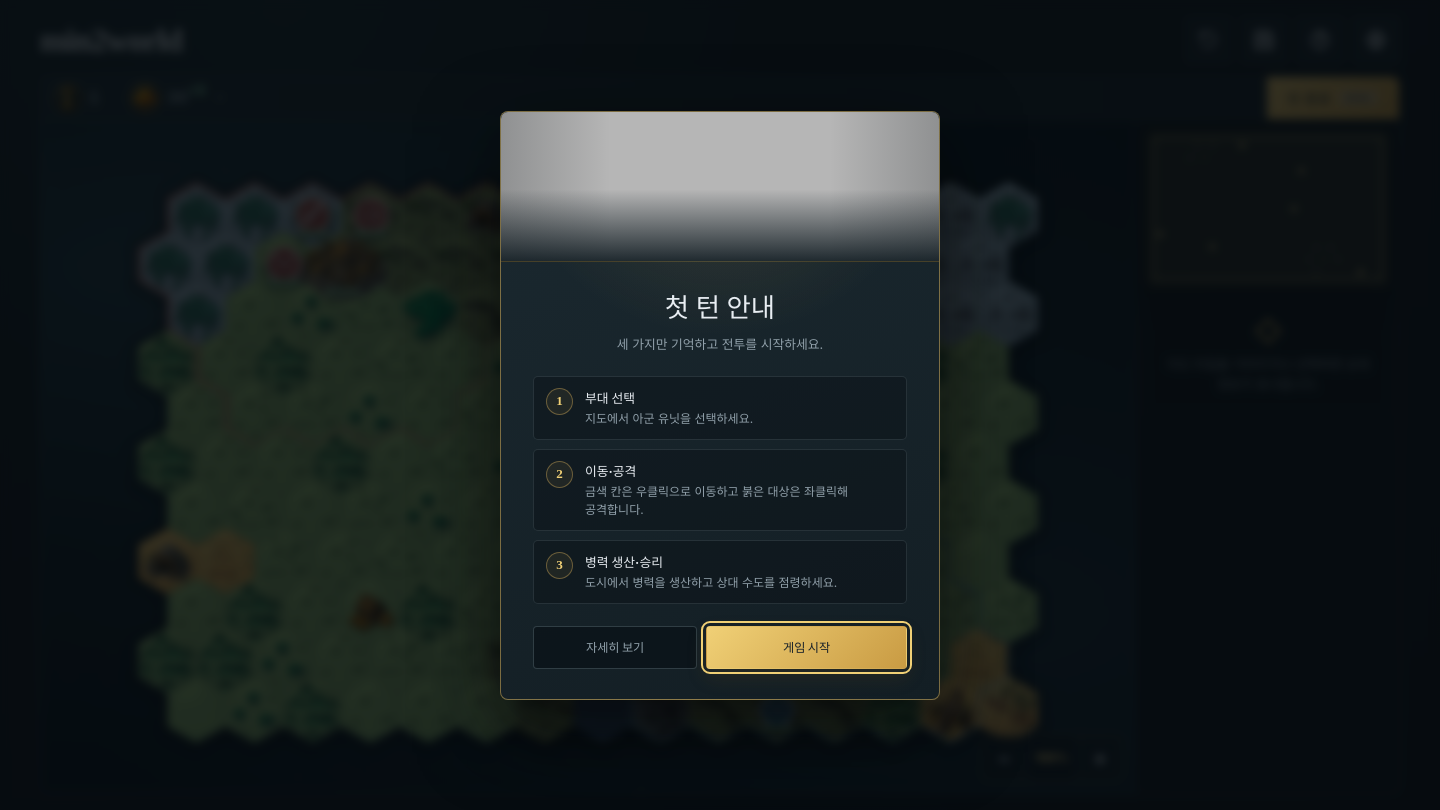
Test: Milestone 07 UI › opens detailed controls from the first-turn guide
Click the button "자세히 보기" at (615, 647), box [533, 626, 697, 668]
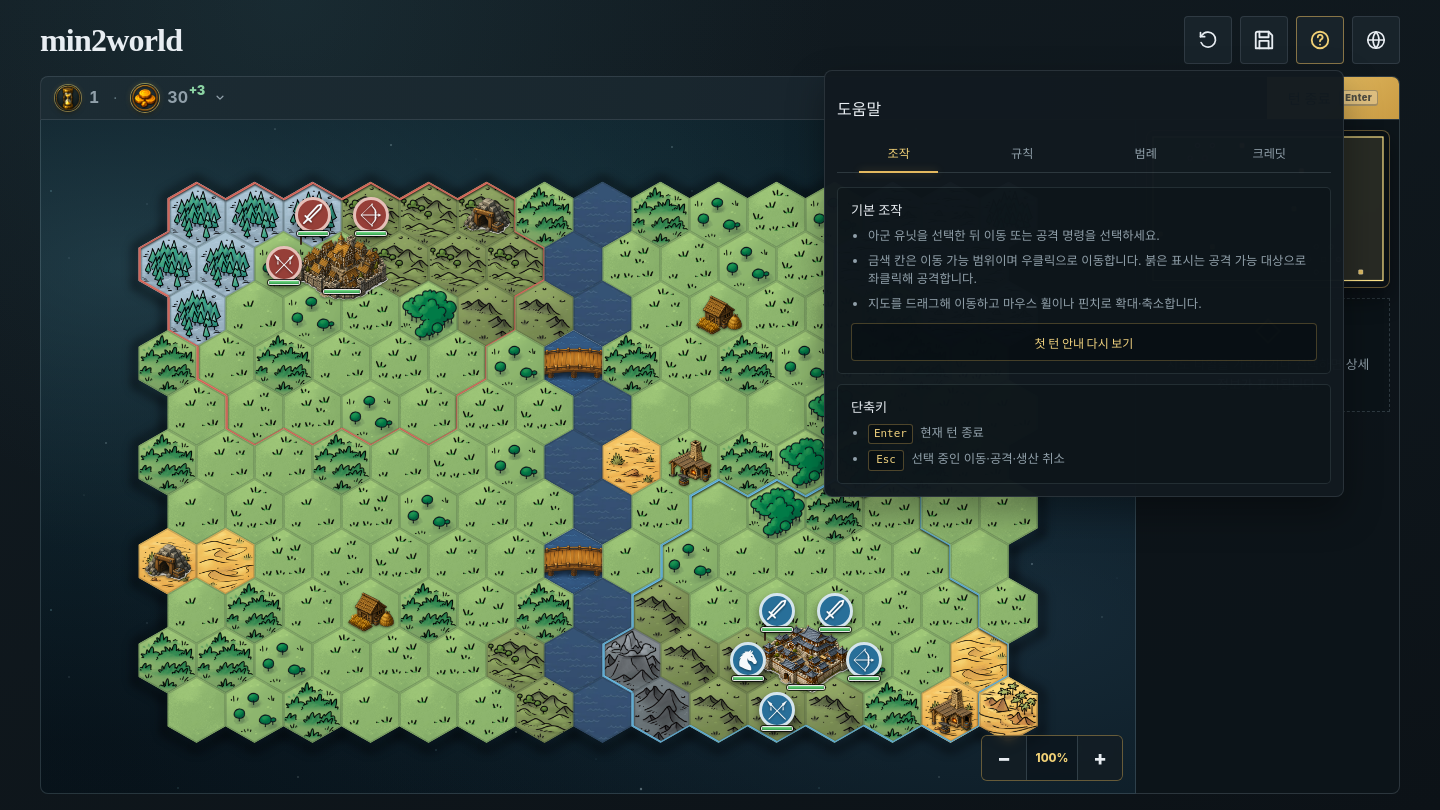
Now the heading "도움말" is shown, box [837, 99, 881, 119]
